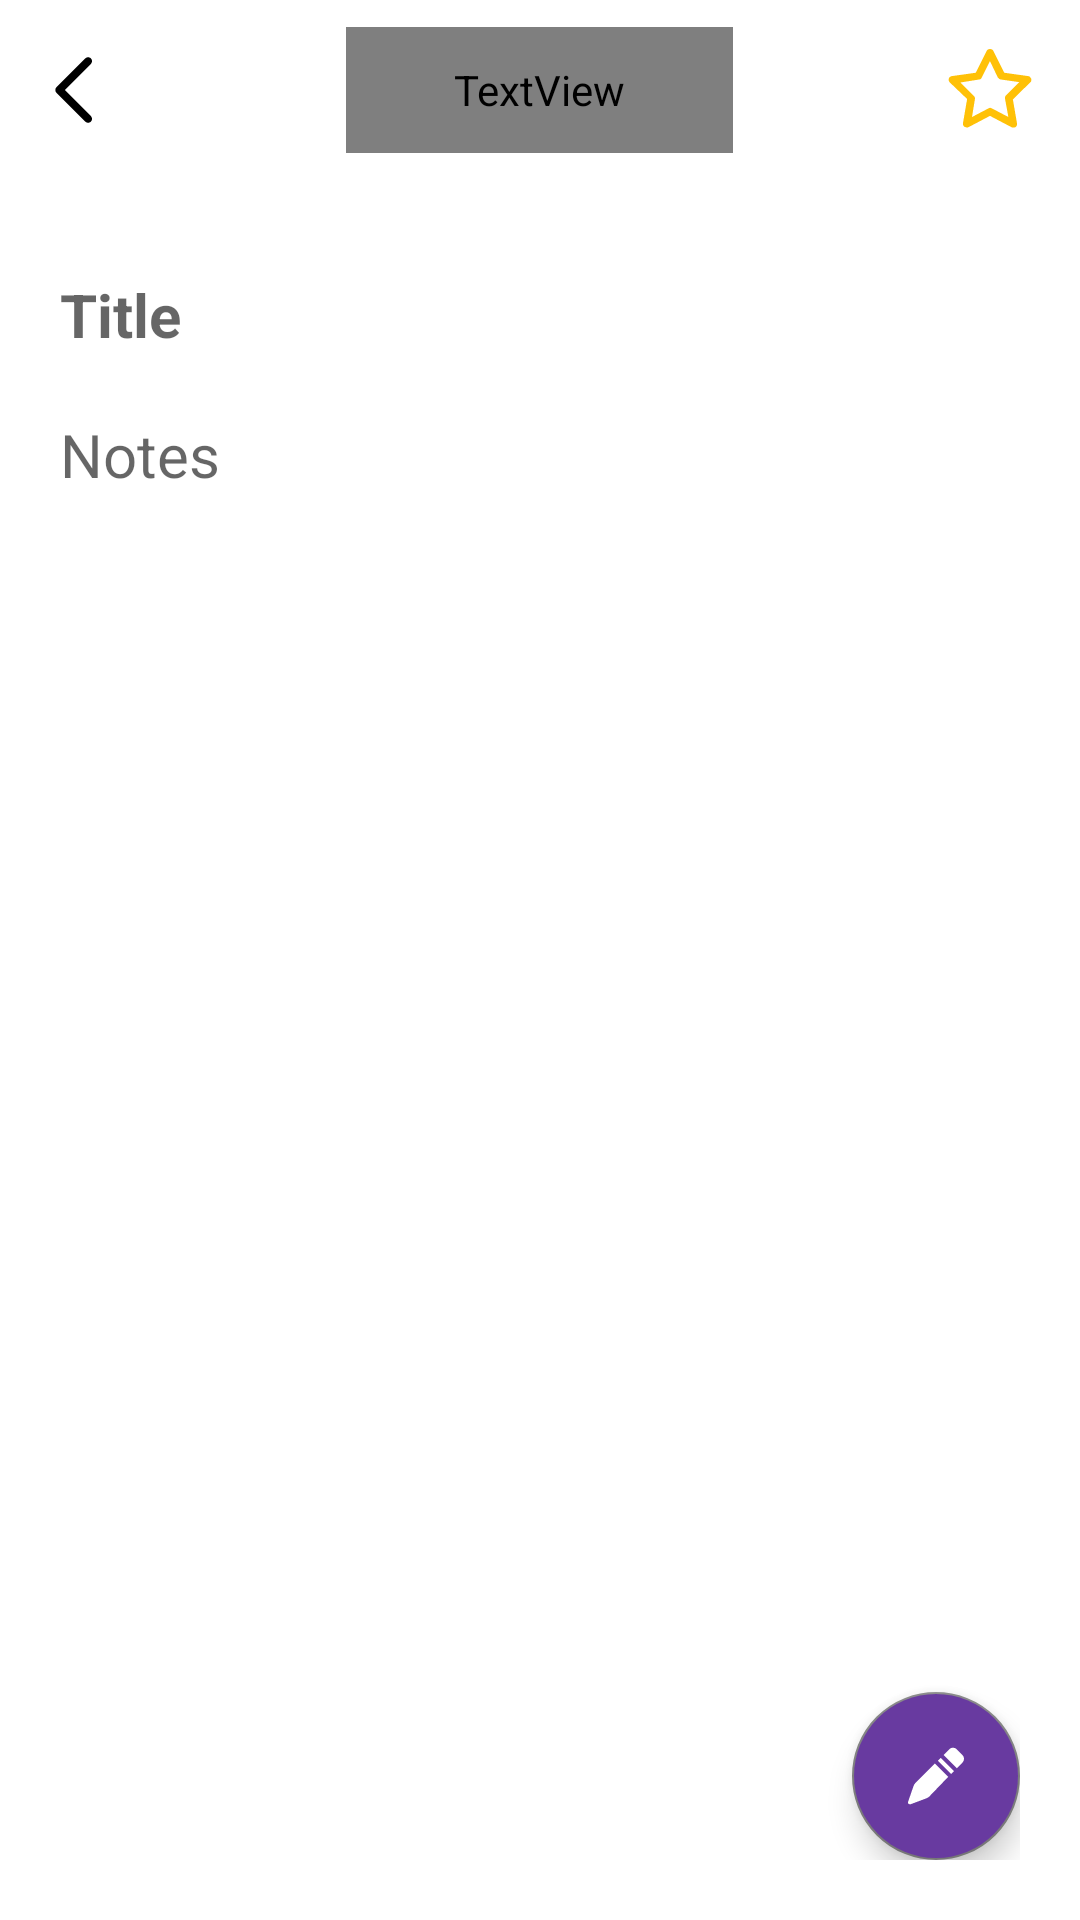

Screen size 1080px×1920px. Icon name, then its box in pixels as [x1,y1,x2,y2]:
back: [55,57,92,123]
edit: [852,1692,1020,1860]
star: [948,49,1032,128]
